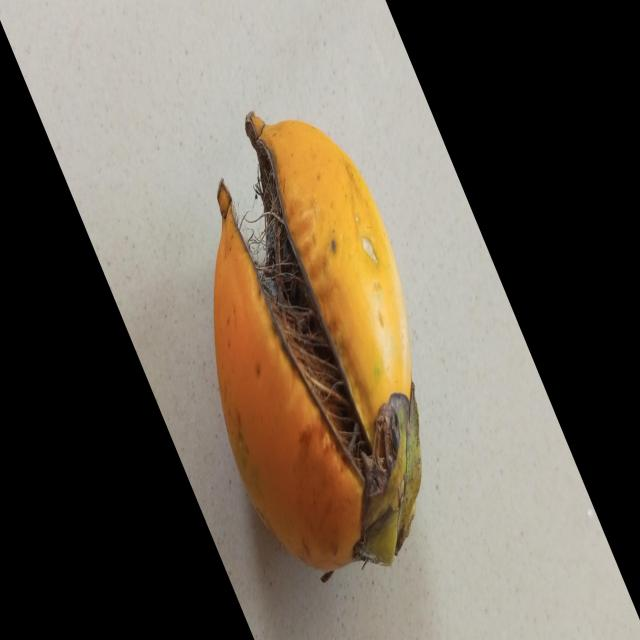damaged: (214, 112, 422, 581)
